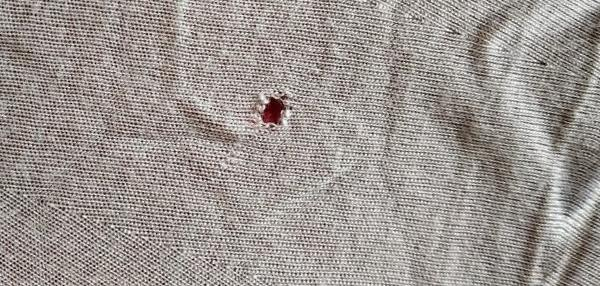hole: (253, 87, 290, 137)
